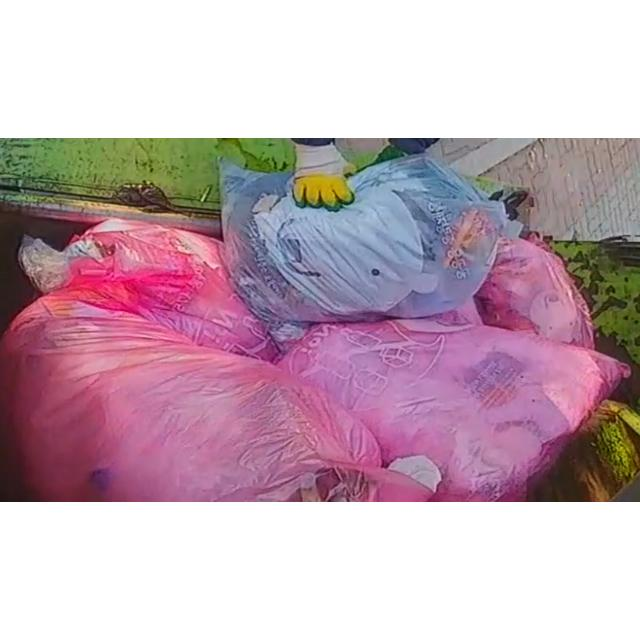other_trashbag: (0, 296, 431, 500), (281, 309, 629, 501), (220, 154, 506, 342), (20, 219, 281, 361), (474, 236, 594, 349)
